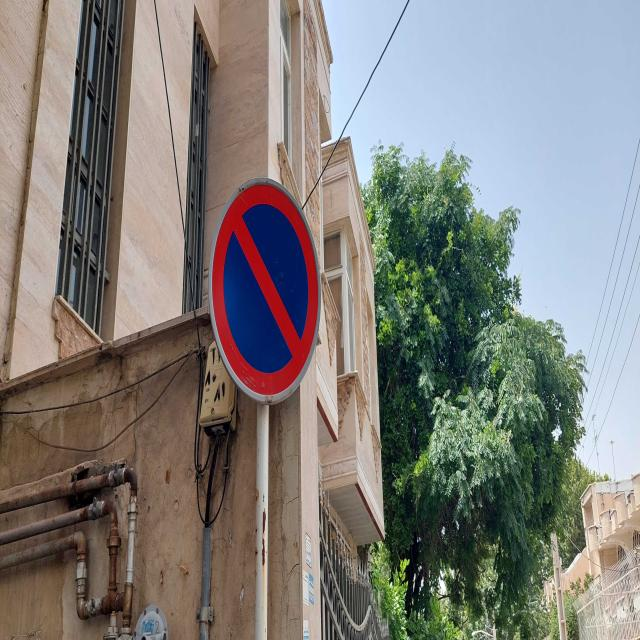forb_stopping: (209, 173, 323, 406)
